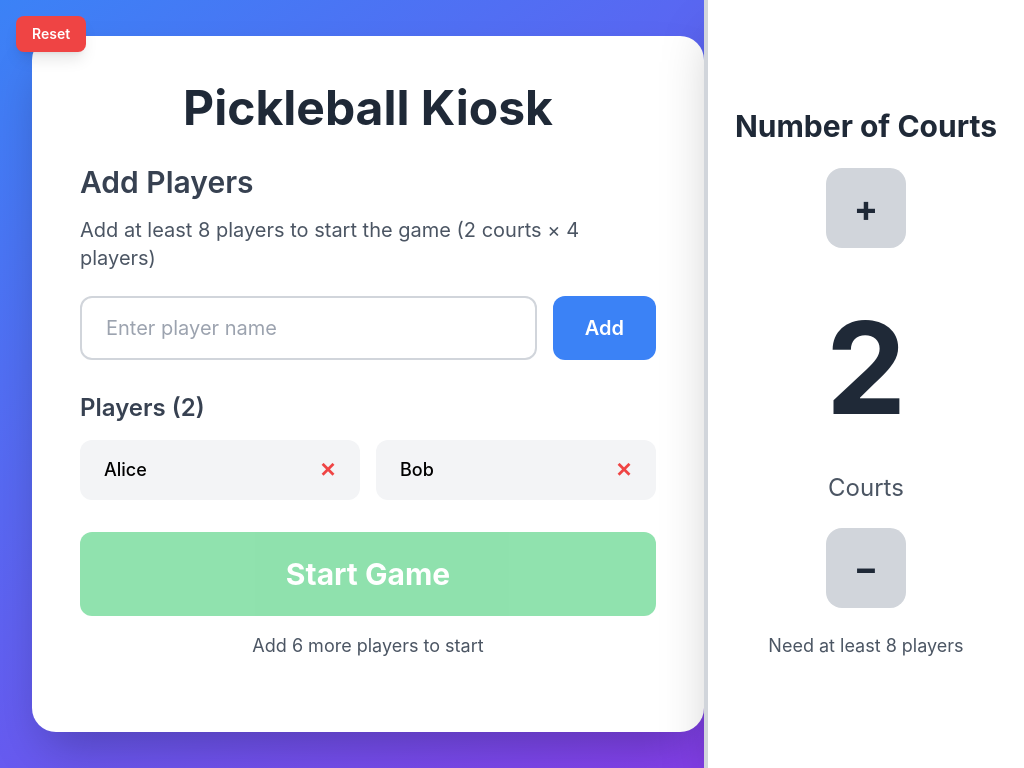
Test: PlayerSetup › Adding Players › shows error for duplicate player name (case-insensitive)
Type "alice" into the field with placeholder "Enter player name" at (308, 328), box [80, 296, 537, 360]
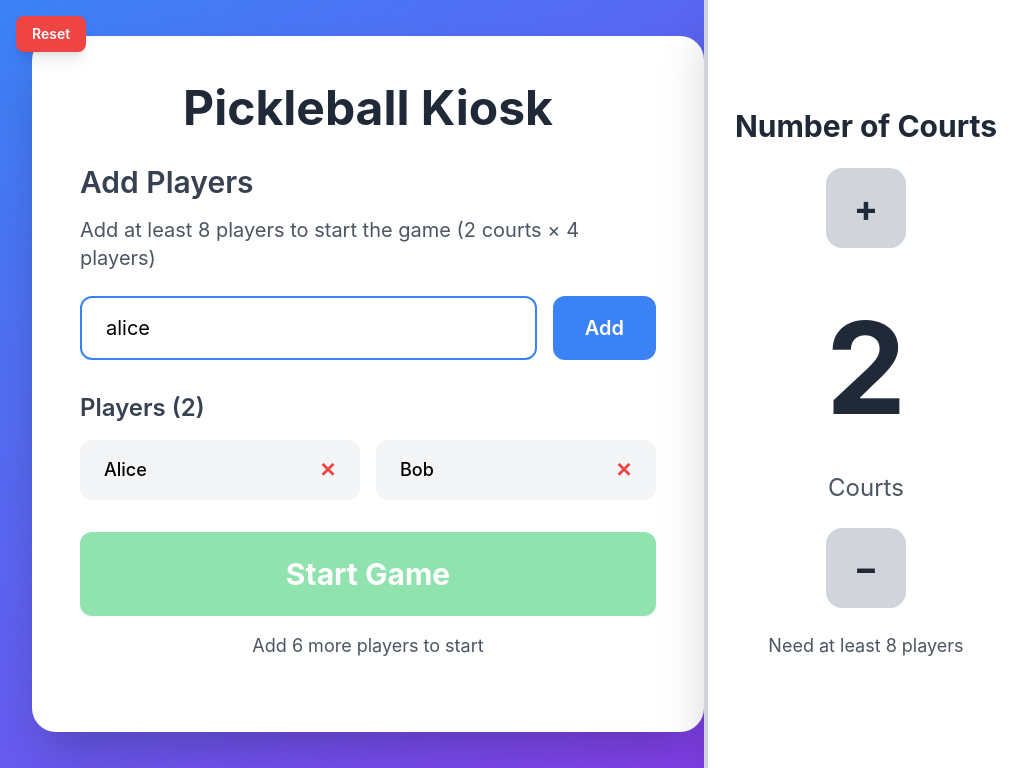
Click the button "Add" at (604, 328), box [553, 296, 656, 360]
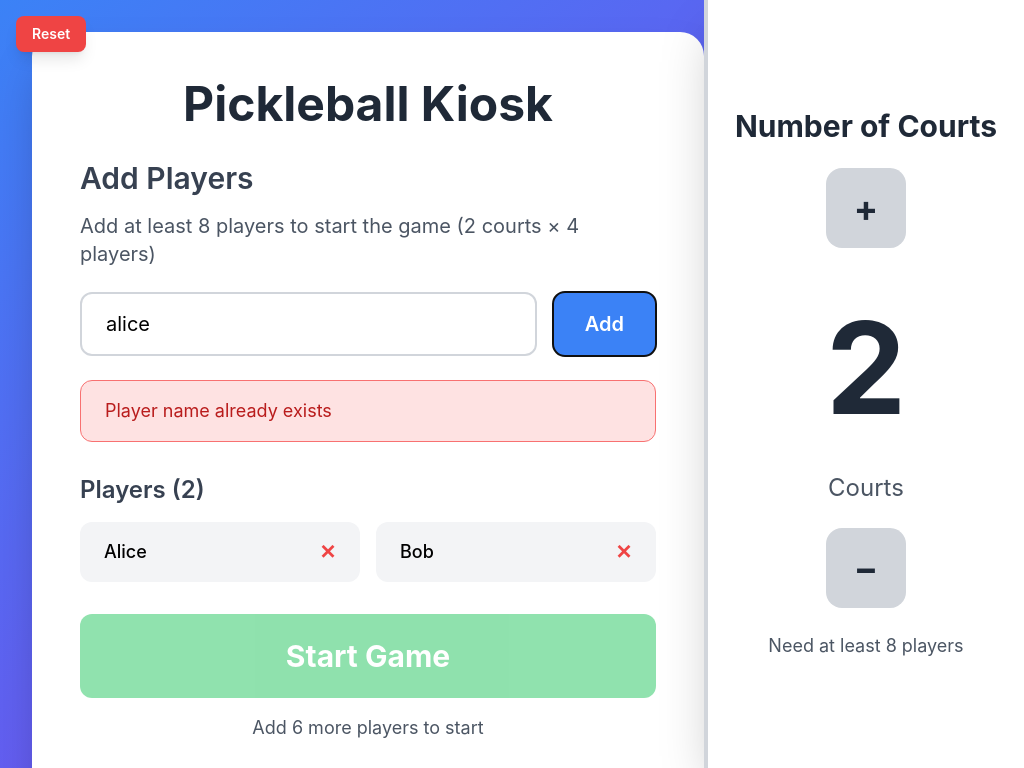
Expected: the text "Player name already exists" is shown, [80, 380, 656, 442]
